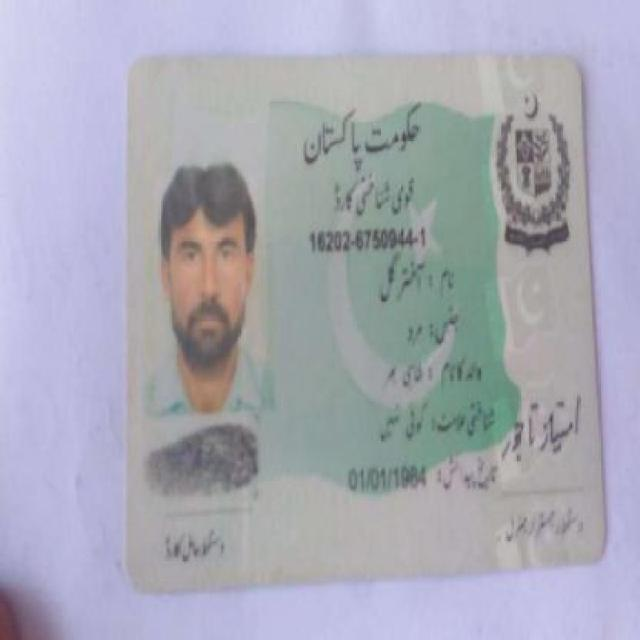Front: (118, 46, 608, 583)
